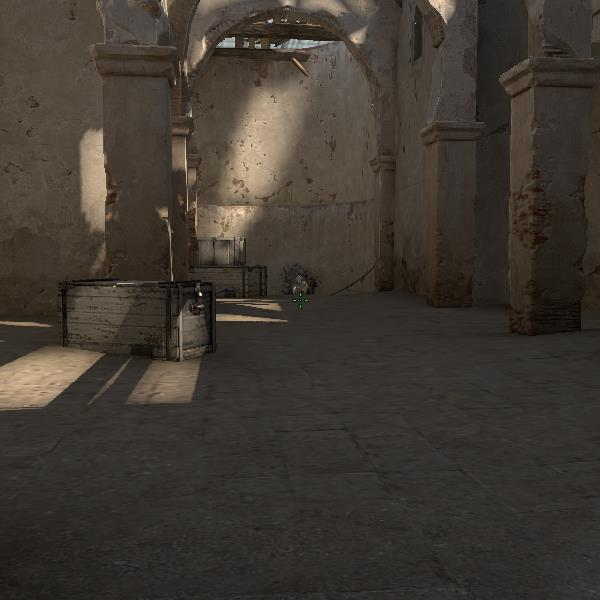ct_body: (285, 276, 313, 294)
ct_head: (294, 276, 304, 287)
